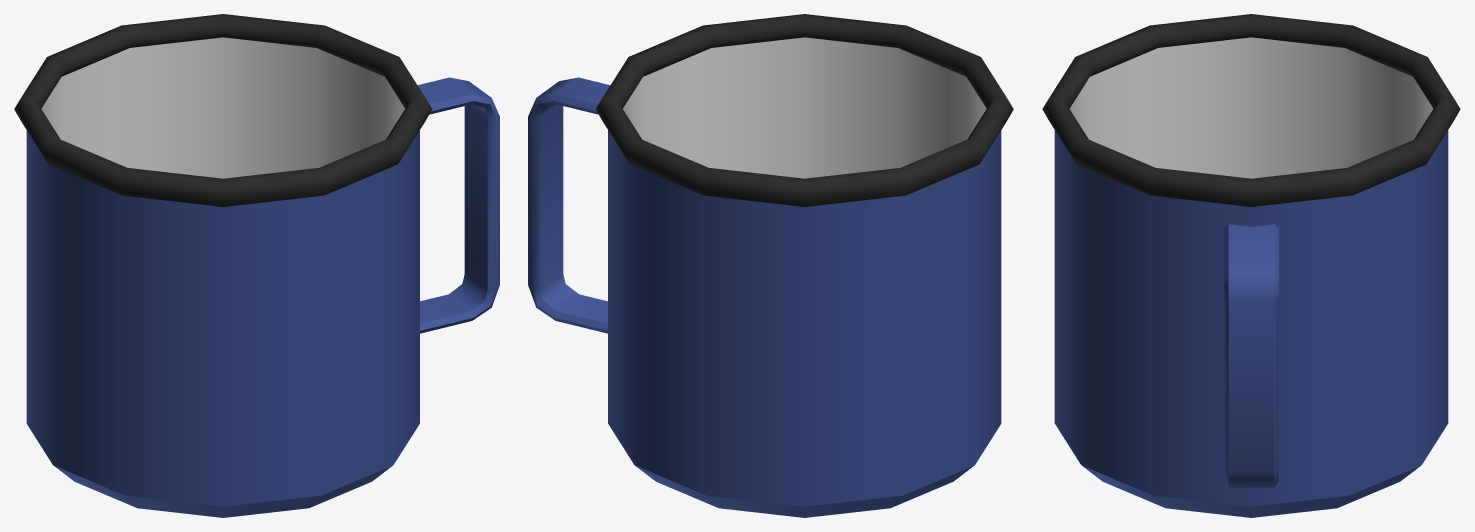
Rendered from Mug_01.fbx.
The picture shows the model from 3 angles, left to right: view 1: azimuth 30°, elevation 25°; view 2: azimuth 150°, elevation 25°; view 3: azimuth 270°, elevation 25°; orthographic projection.
Parts seen in each view (by area): view 1: Mug_01; view 2: Mug_01; view 3: Mug_01.
Part boxes in pixels (box(x1,y1,x2,y2)): Mug_01: box(14, 14, 499, 517); Mug_01: box(528, 14, 1013, 517); Mug_01: box(1042, 14, 1460, 517).
Size of the model in its own units: 0.1365 by 0.1016 by 0.1108.
